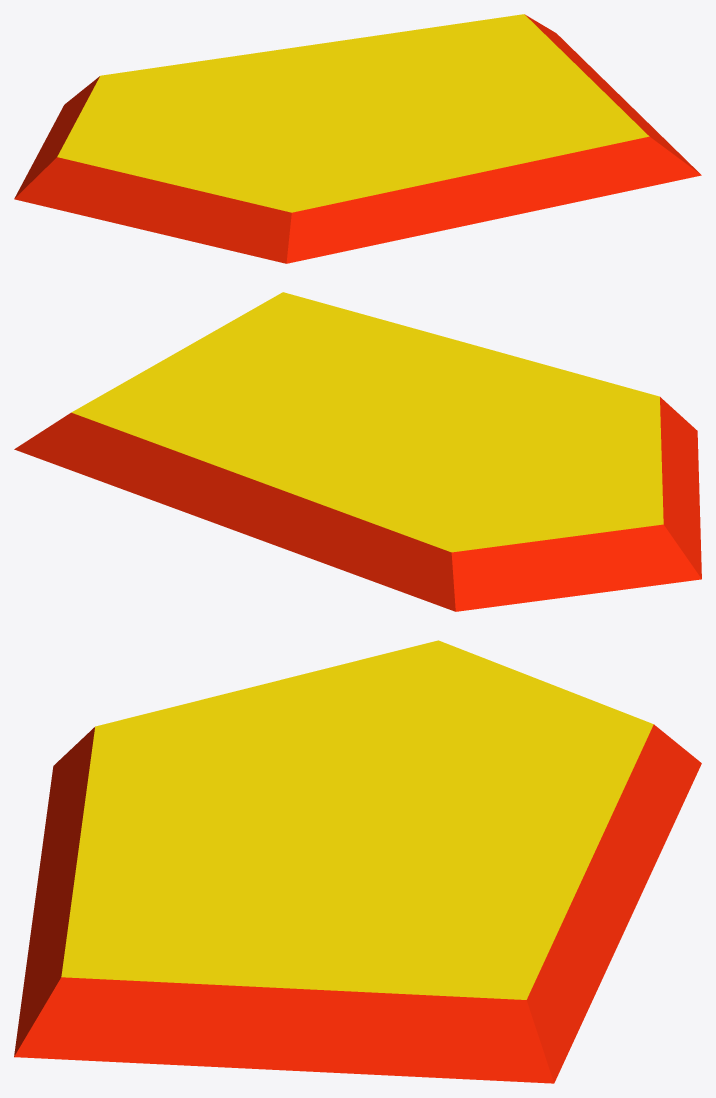
The model's file is RockFlat2.fbx.
3 views of the same model, one above another, from view 1: azimuth 30°, elevation 25°; view 2: azimuth 150°, elevation 25°; view 3: azimuth 270°, elevation 25° (orthographic). The views are drawn at different scales.
Parts seen in each view (by area): view 1: RockFlat2; view 2: RockFlat2; view 3: RockFlat2.
Boxes of the visible parts, left/top/right/bottom form: RockFlat2: left=14, top=14, right=701, bottom=263; RockFlat2: left=14, top=292, right=701, bottom=611; RockFlat2: left=14, top=640, right=701, bottom=1083.
Size of the model in its own units: 3.05 by 2.12 by 0.182.
